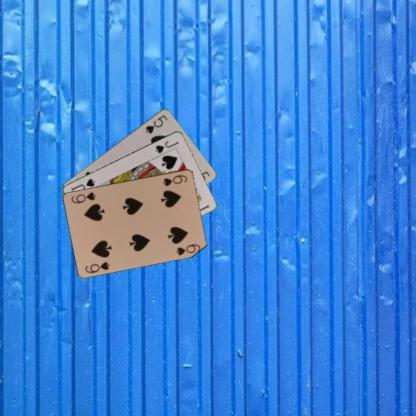5s: (142, 112, 168, 135)
6s: (82, 259, 112, 274), (160, 172, 188, 187)
Js: (154, 138, 180, 154)
